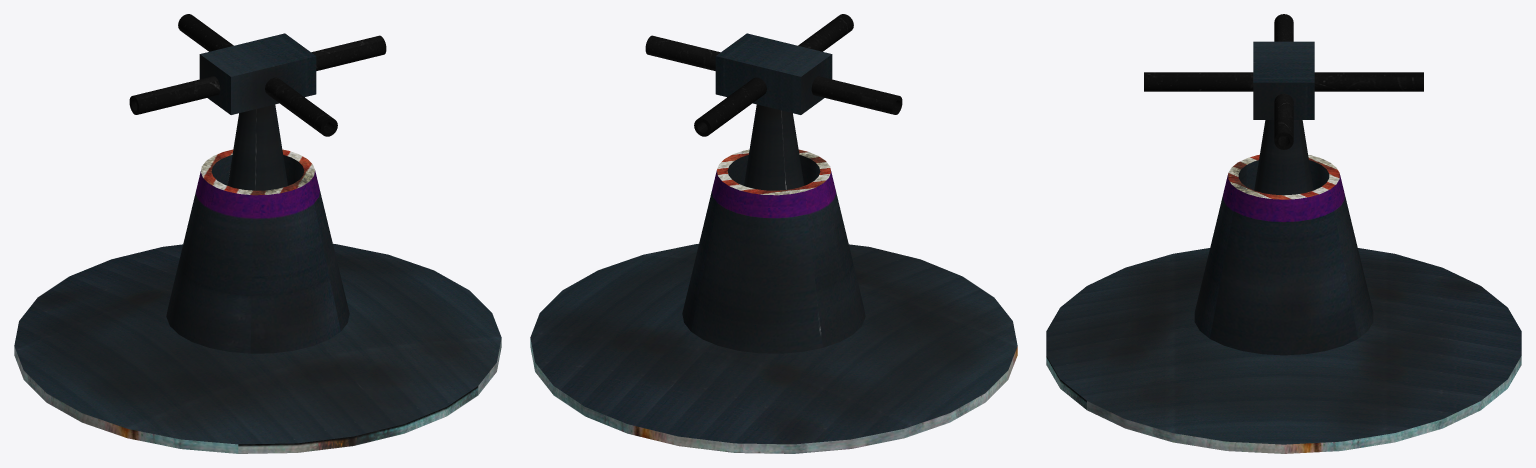
The model's file is towerC_Pink.fbx.
The picture shows the model from 3 angles, left to right: view 1: azimuth 30°, elevation 25°; view 2: azimuth 150°, elevation 25°; view 3: azimuth 270°, elevation 25°; orthographic projection.
Visible parts, largest first — view 1: polySurface1; view 2: polySurface1; view 3: polySurface1.
Part boxes in pixels (x1=…): polySurface1: x1=14, y1=14, x2=501, y2=453; polySurface1: x1=530, y1=14, x2=1017, y2=453; polySurface1: x1=1046, y1=14, x2=1521, y2=453.
Size of the model in its own units: 30.16 by 20.21 by 29.94.
Materials: 1 (1 with a texture image).
